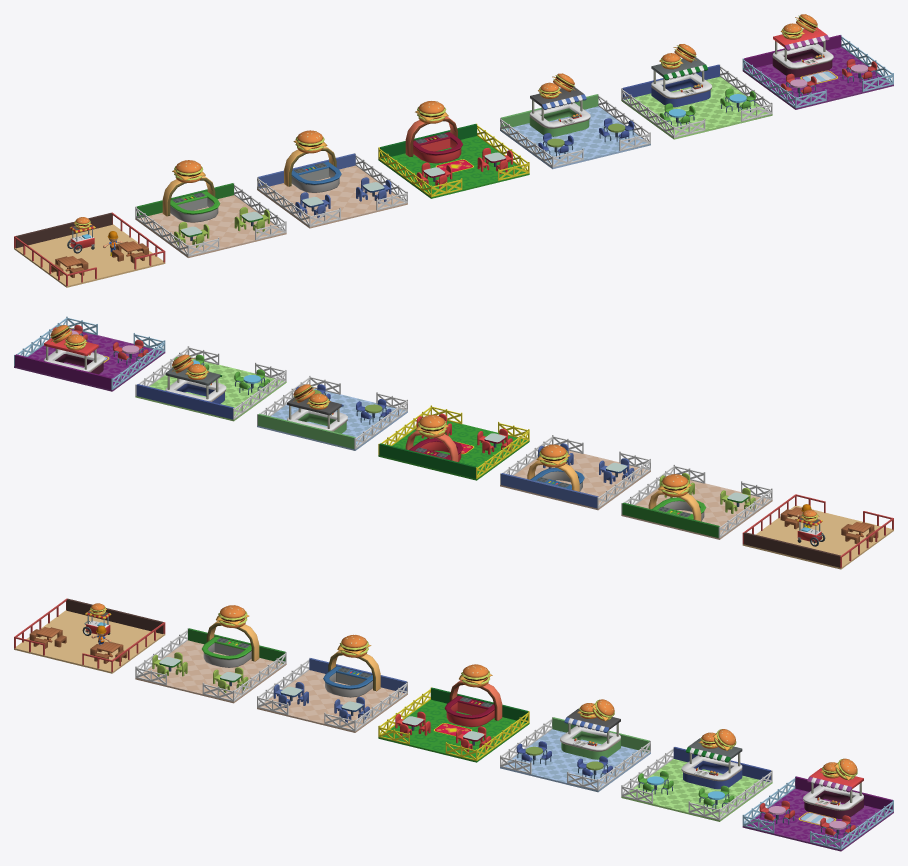
Rendered from HamburgerCafe.fbx.
The picture shows the model from 3 angles, top to bottom: view 1: azimuth 30°, elevation 25°; view 2: azimuth 150°, elevation 25°; view 3: azimuth 330°, elevation 25°; orthographic projection.
Visible parts, largest first — view 1: Cube.184, Cube.181, Cube.178, Cube.189, Cube.218, Cube.241, Cube.193, Cube.452, Cube.233, Cube.451, Cube.259, Cube.196 (+3 smaller); view 2: Cube.184, Cube.178, Cube.181, Cube.241, Cube.189, Cube.218, Cube.193, Cube.452, Cube.233, Cube.451, Cube.259, Cube.232 (+3 smaller); view 3: Cube.184, Cube.178, Cube.181, Cube.189, Cube.218, Cube.241, Cube.193, Cube.452, Cube.451, Cube.233, Cube.259, Cube.196 (+3 smaller).
Part boxes in pixels (x1,y1,x2,y2): Cube.184: [14, 212, 165, 287]; Cube.181: [257, 153, 407, 228]; Cube.178: [135, 183, 286, 257]; Cube.189: [621, 64, 772, 139]; Cube.218: [500, 94, 650, 169]; Cube.241: [378, 123, 529, 198]; Cube.193: [742, 34, 893, 109]; Cube.452: [772, 14, 837, 83]; Cube.233: [529, 73, 590, 136]; Cube.451: [651, 44, 712, 107]; Cube.259: [405, 101, 473, 172]; Cube.196: [162, 160, 220, 222]; Cube.184: [742, 494, 893, 569]; Cube.178: [621, 464, 772, 539]; Cube.181: [500, 435, 650, 510]; Cube.241: [378, 405, 529, 480]; Cube.189: [135, 346, 286, 421]; Cube.218: [257, 375, 407, 450]; Cube.193: [14, 316, 165, 391]; Cube.452: [44, 325, 109, 374]; Cube.233: [287, 384, 347, 433]; Cube.451: [165, 354, 226, 403]; Cube.259: [405, 415, 474, 461]; Cube.232: [527, 444, 584, 491]; Cube.184: [14, 598, 165, 673]; Cube.178: [135, 628, 286, 703]; Cube.181: [257, 657, 407, 732]; Cube.189: [621, 746, 772, 821]; Cube.218: [500, 717, 650, 792]; Cube.241: [378, 687, 529, 762]; Cube.193: [742, 776, 893, 851]; Cube.452: [798, 758, 863, 825]; Cube.451: [681, 729, 742, 789]; Cube.233: [560, 699, 620, 759]; Cube.259: [433, 664, 502, 736]; Cube.196: [202, 605, 259, 667].
Size of the model in its own units: 109 by 6.09 by 12.71.
Materials: 8 (8 with a texture image).
